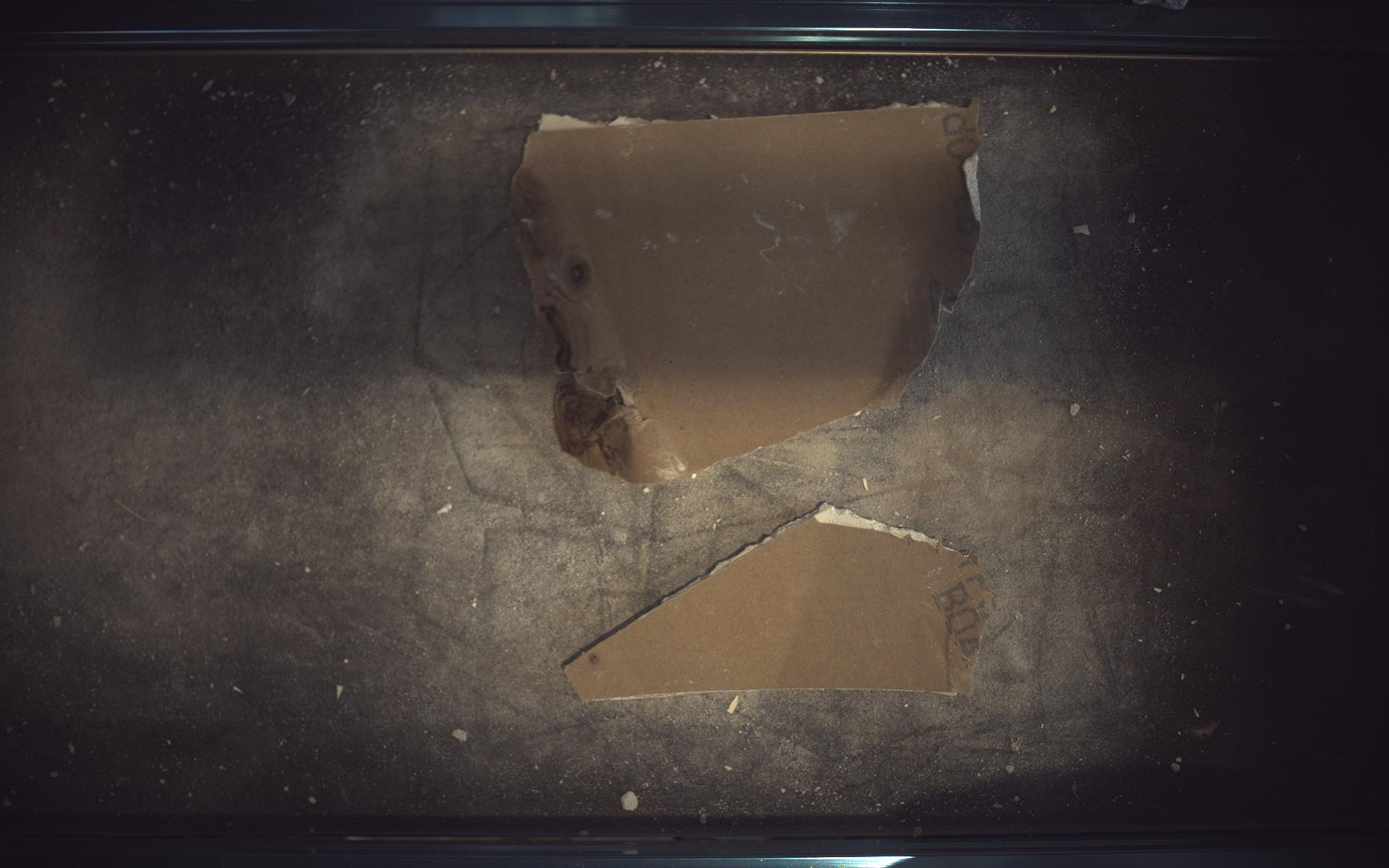gypsum_board: (511, 101, 983, 483), (565, 506, 995, 702)
